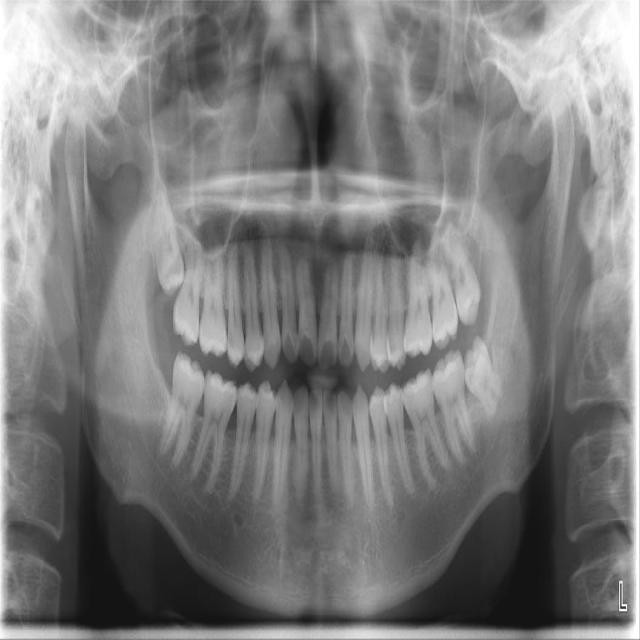impacted tooth: (145, 177, 188, 296), (439, 225, 479, 324), (462, 337, 505, 416)
